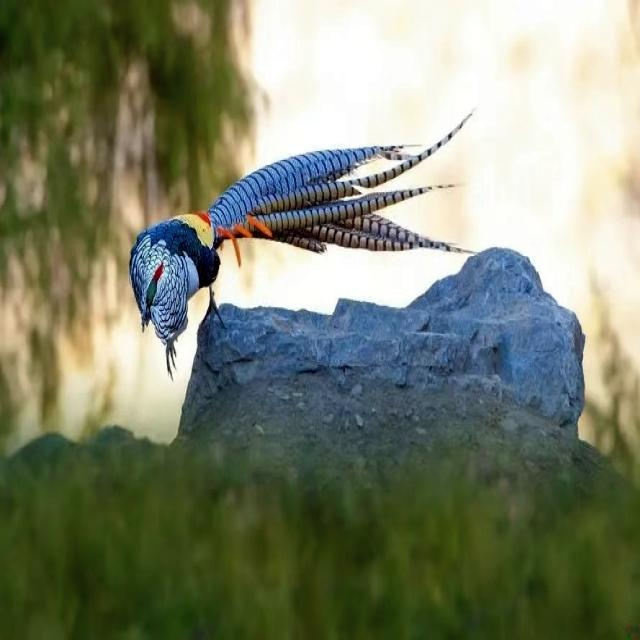Chrysolophus amherstiae: (204, 115, 471, 252)
